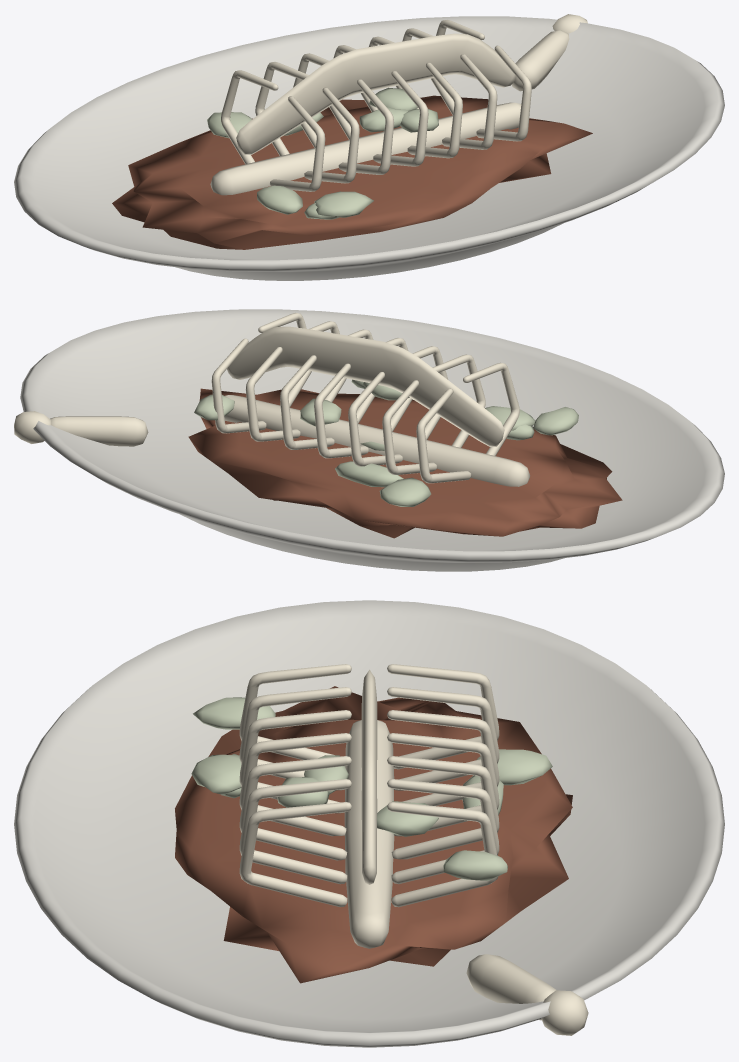
File: carcass_dish.glb
The picture shows the model from 3 angles, top to bottom: view 1: azimuth 30°, elevation 25°; view 2: azimuth 150°, elevation 25°; view 3: azimuth 270°, elevation 25°; orthographic projection. The views are drawn at different scales.
Visible parts, largest first — view 1: carcass_dish; view 2: carcass_dish; view 3: carcass_dish.
Boxes of the visible parts, x1,y1,x2,y2 form: carcass_dish: (14, 14, 724, 280); carcass_dish: (14, 309, 724, 571); carcass_dish: (14, 600, 724, 1047).
Size of the model in its own units: 0.5 by 0.1065 by 0.34.
